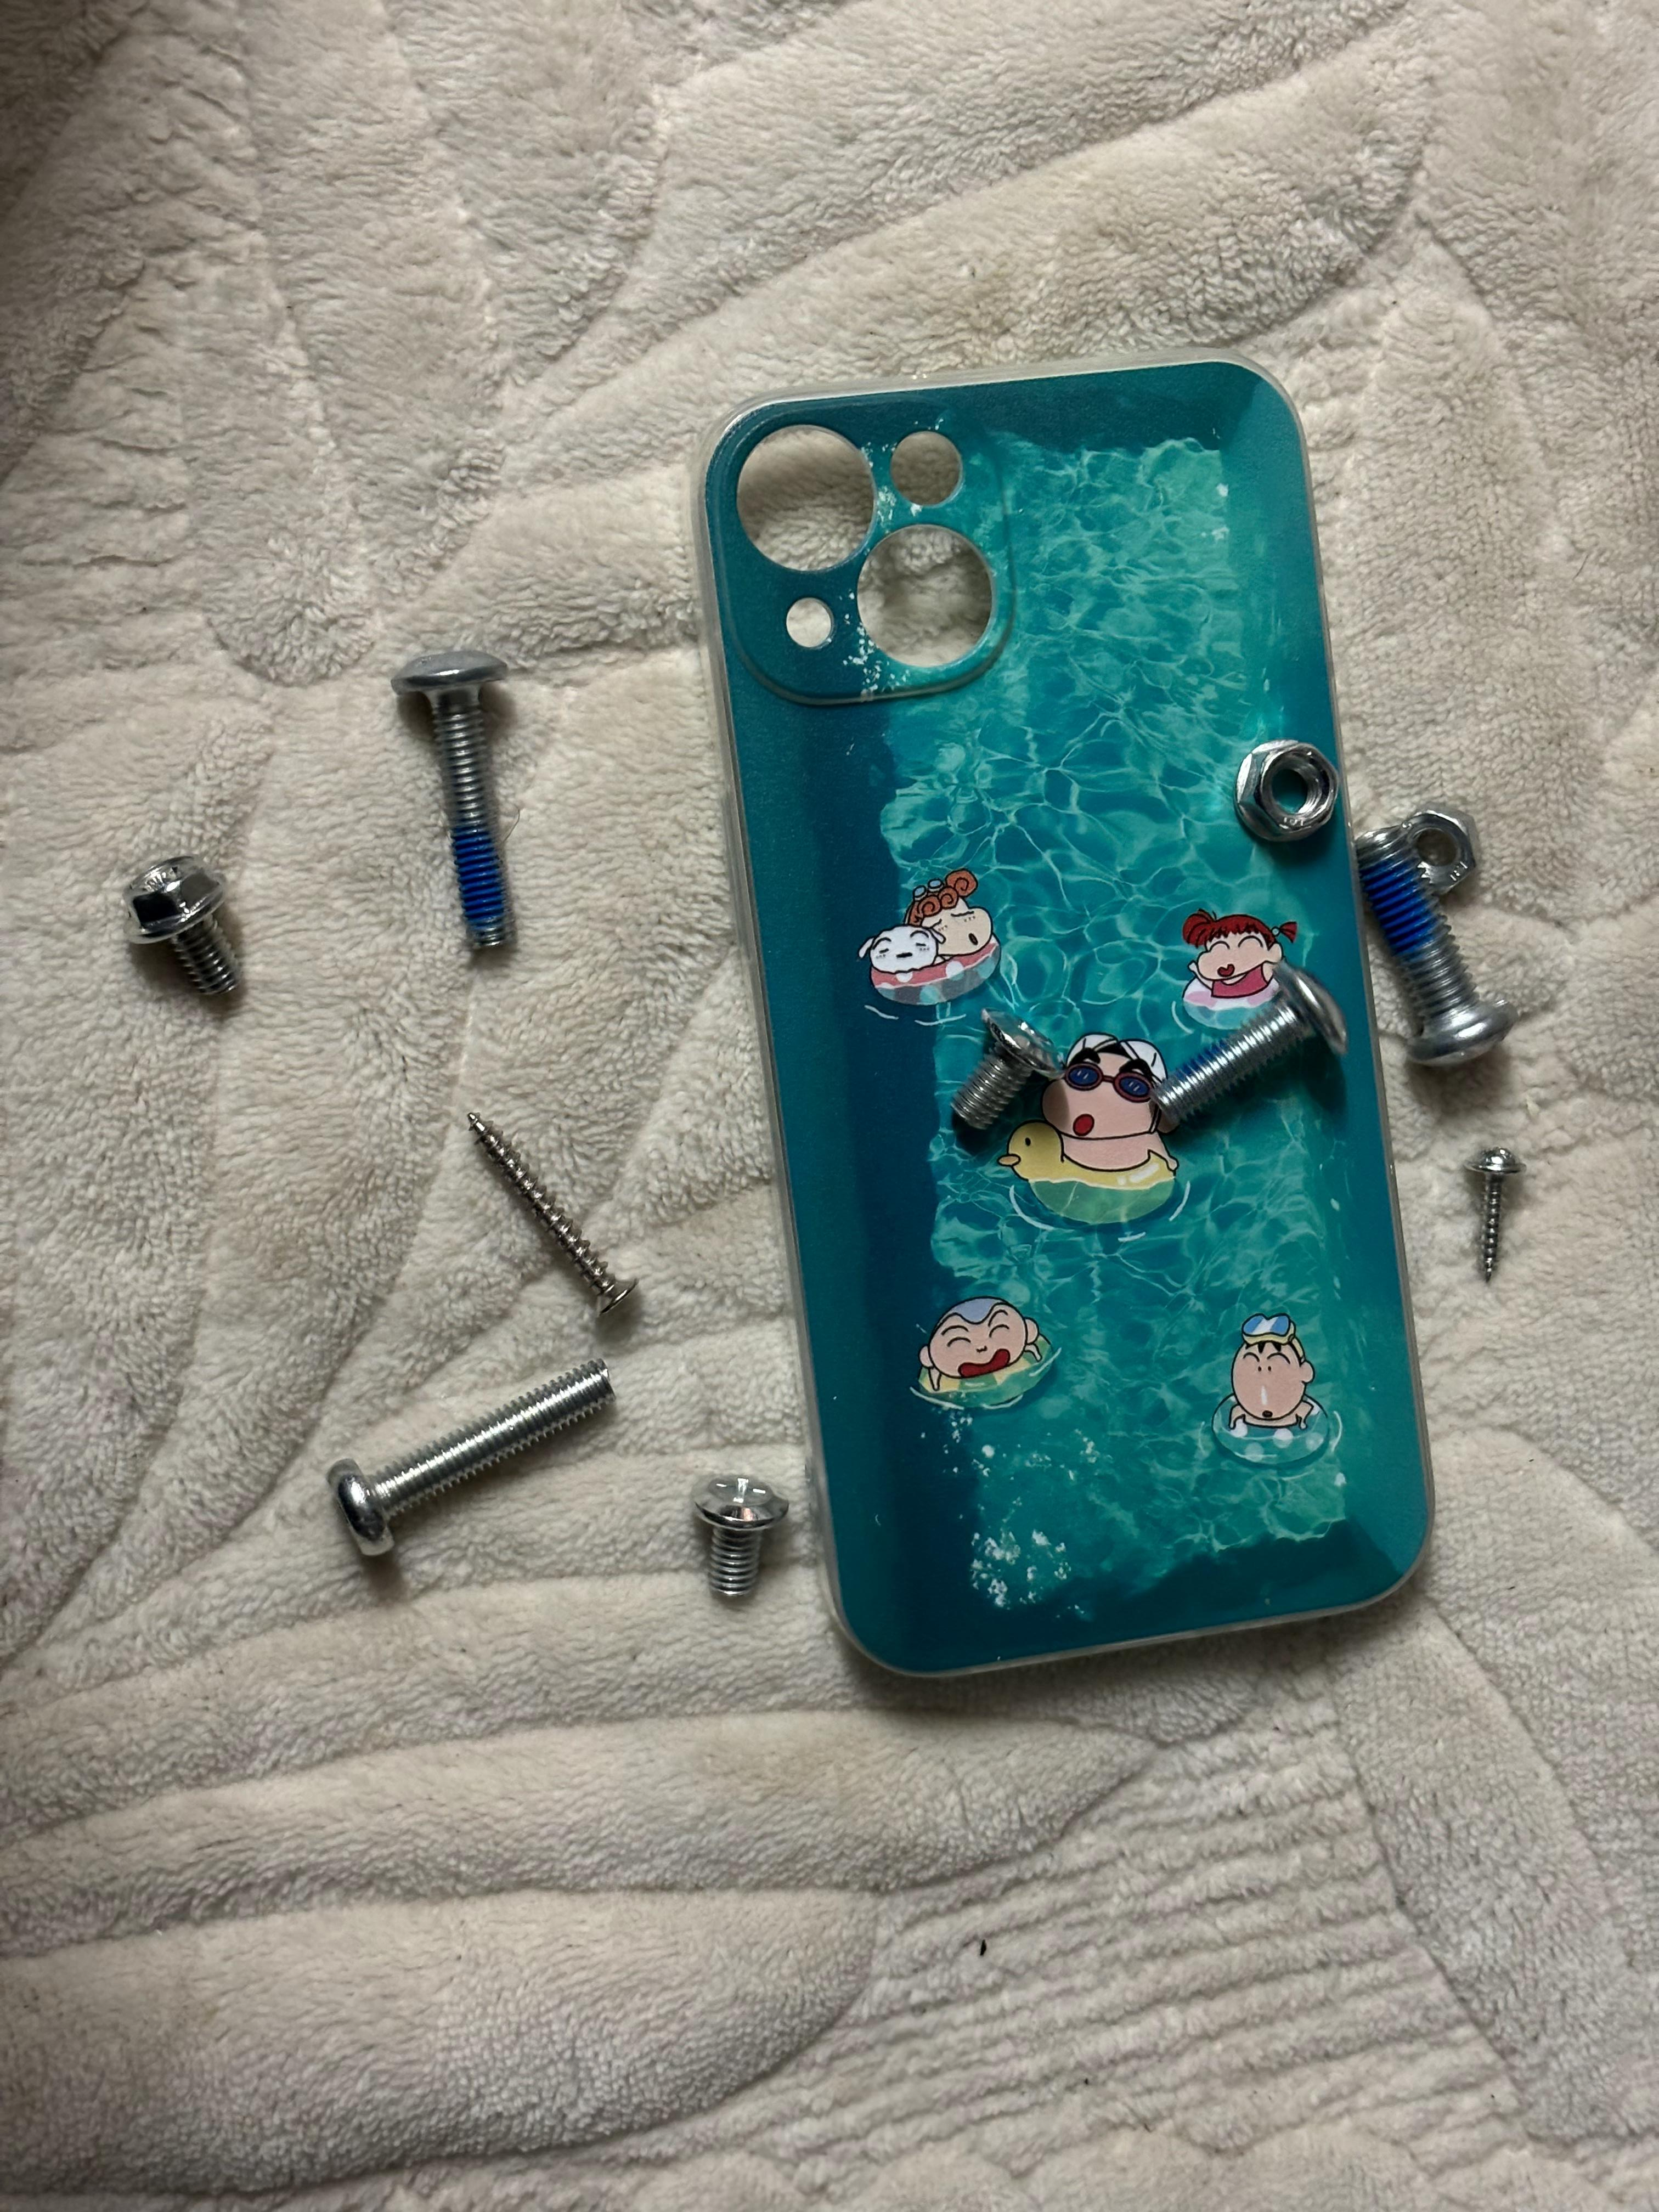Flange nut: (1236, 740, 1340, 845)
Hexagon nut: (1403, 801, 1483, 902)
Hexagon screw: (122, 853, 246, 998)
Round head screw: (321, 1355, 619, 1559), (1352, 822, 1521, 1069), (390, 651, 519, 954), (464, 1108, 640, 1318), (1148, 961, 1349, 1130), (948, 1007, 1070, 1136), (688, 1470, 789, 1602), (1462, 1144, 1530, 1284)
